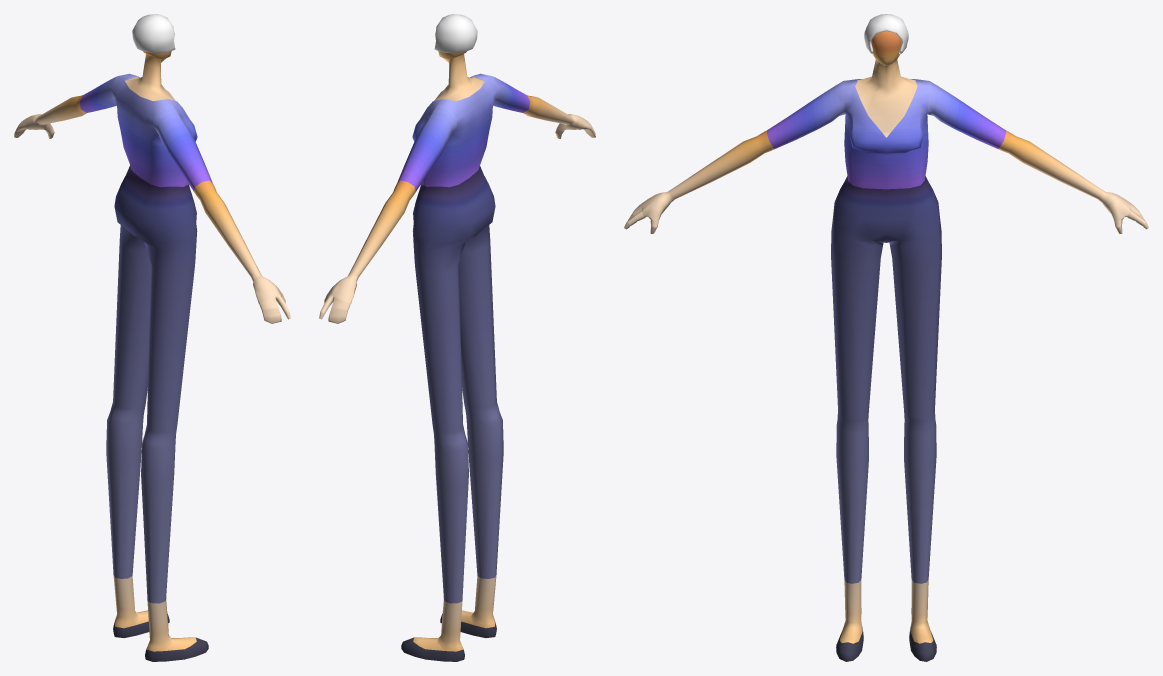
The model's file is avatars_tposing_tall_woman.glb.
The picture shows the model from 3 angles, left to right: view 1: azimuth 30°, elevation 25°; view 2: azimuth 150°, elevation 25°; view 3: azimuth 270°, elevation 25°; orthographic projection.
Visible parts, largest first — view 1: mesh_char_108; view 2: mesh_char_108; view 3: mesh_char_108.
Boxes of the visible parts, box(x1,y1,x2,y2) form: mesh_char_108: box(14, 14, 290, 661); mesh_char_108: box(319, 14, 595, 661); mesh_char_108: box(624, 14, 1148, 661).
Bounding box in the file's own units: 0.67 × 6.21 × 4.69.
Materials: 2 (1 with a texture image).
